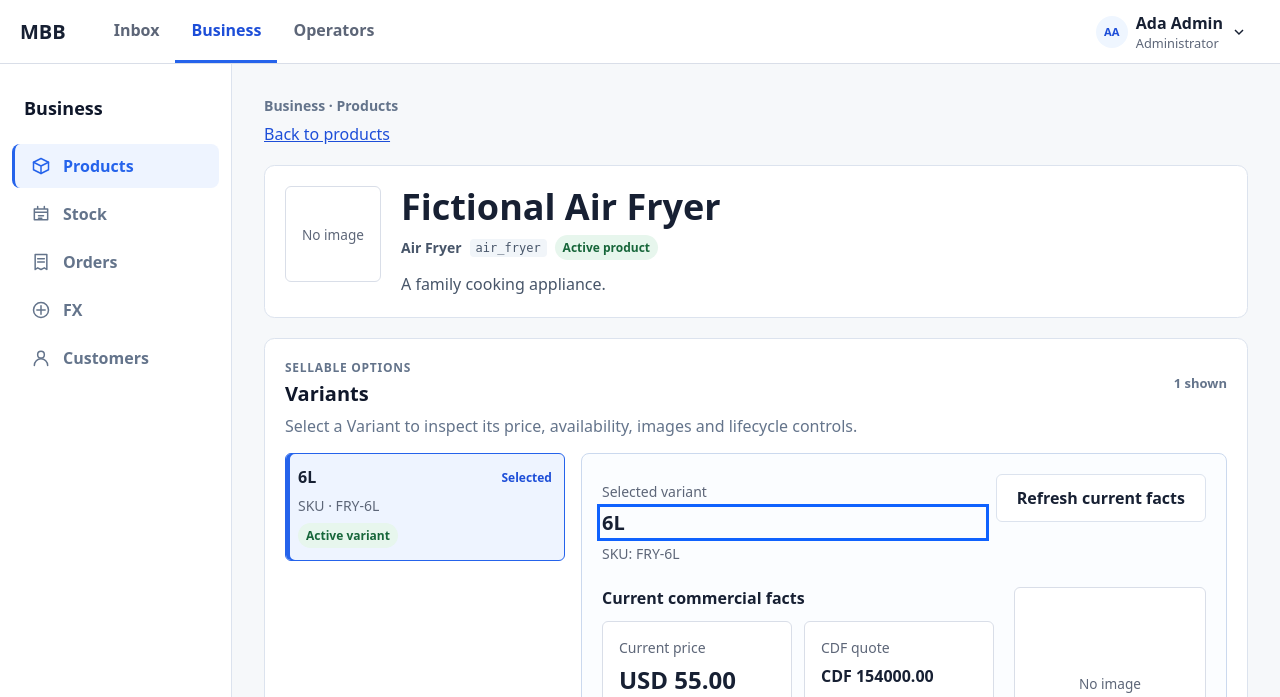
Scenario: shared Business Products › keeps a saved change separate from a failed authoritative reread
Click the button with aria-label "6L · FRY-6L" at (527, 477), box [285, 453, 565, 561]
(page scrolled)
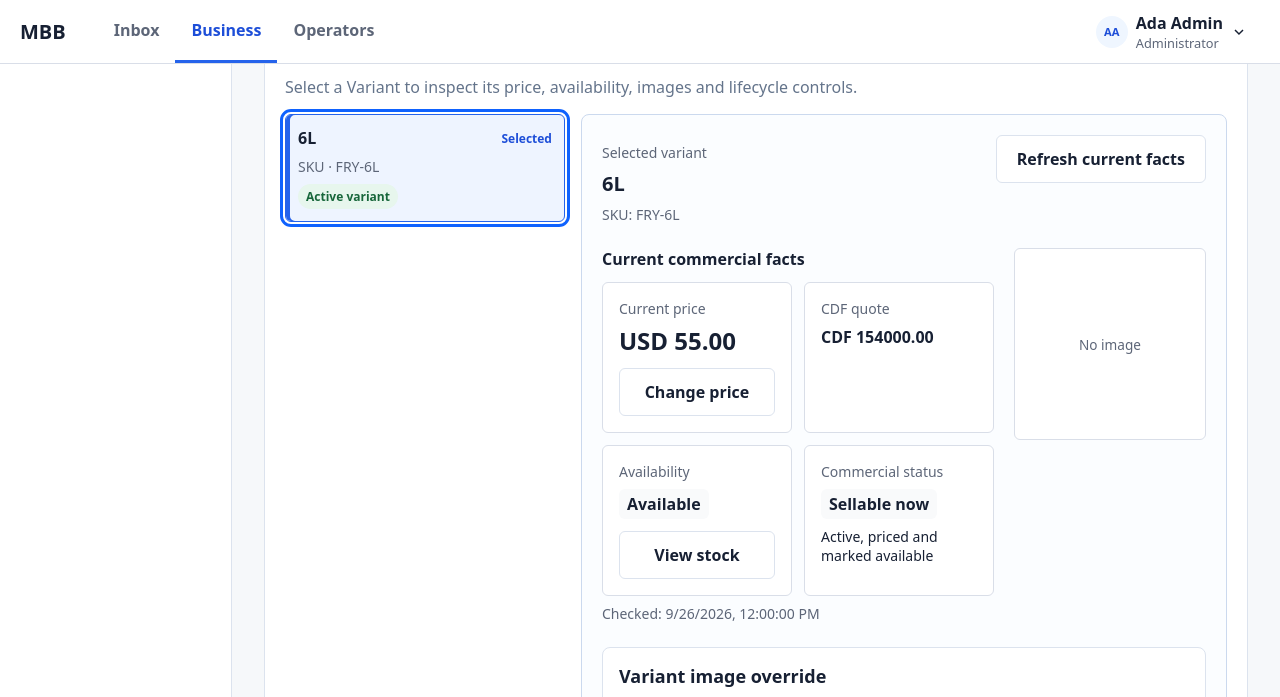
Check: the heading "6L" is shown, box [602, 170, 625, 197]
Click the button "Change price" at (697, 392), box [619, 368, 775, 416]
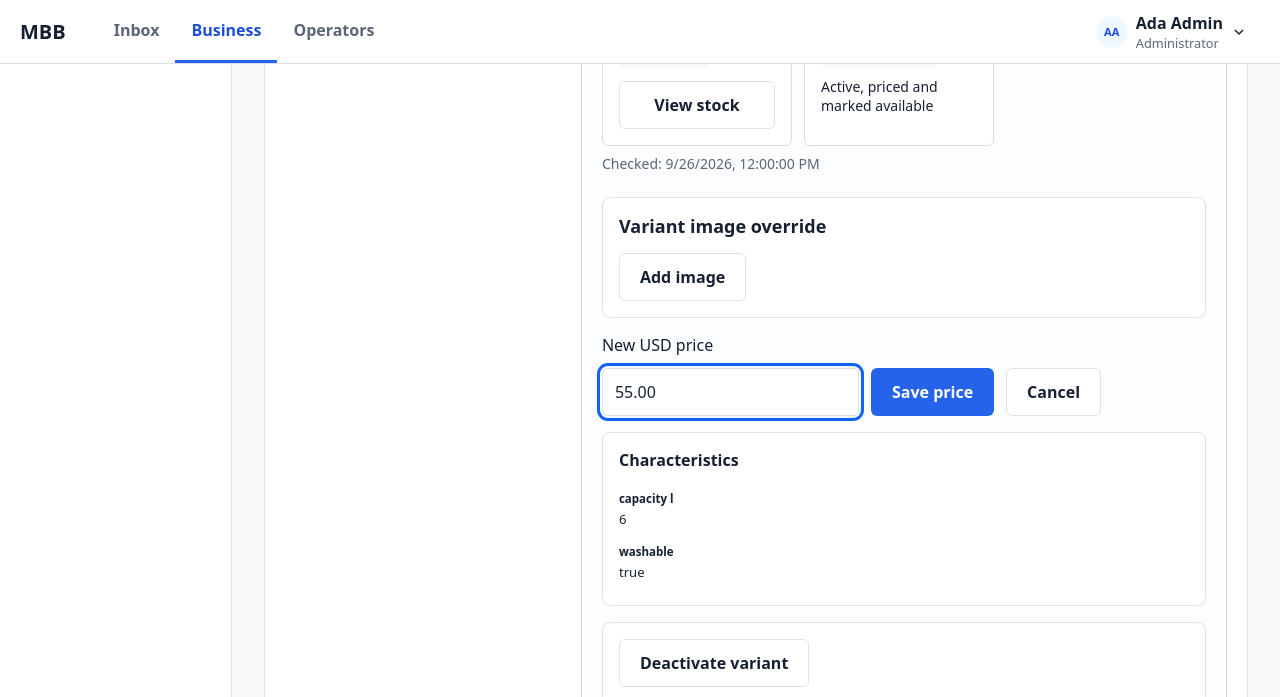
Replace the text in the field labelled "New USD price" with "60.25" at (730, 392), box [602, 368, 859, 416]
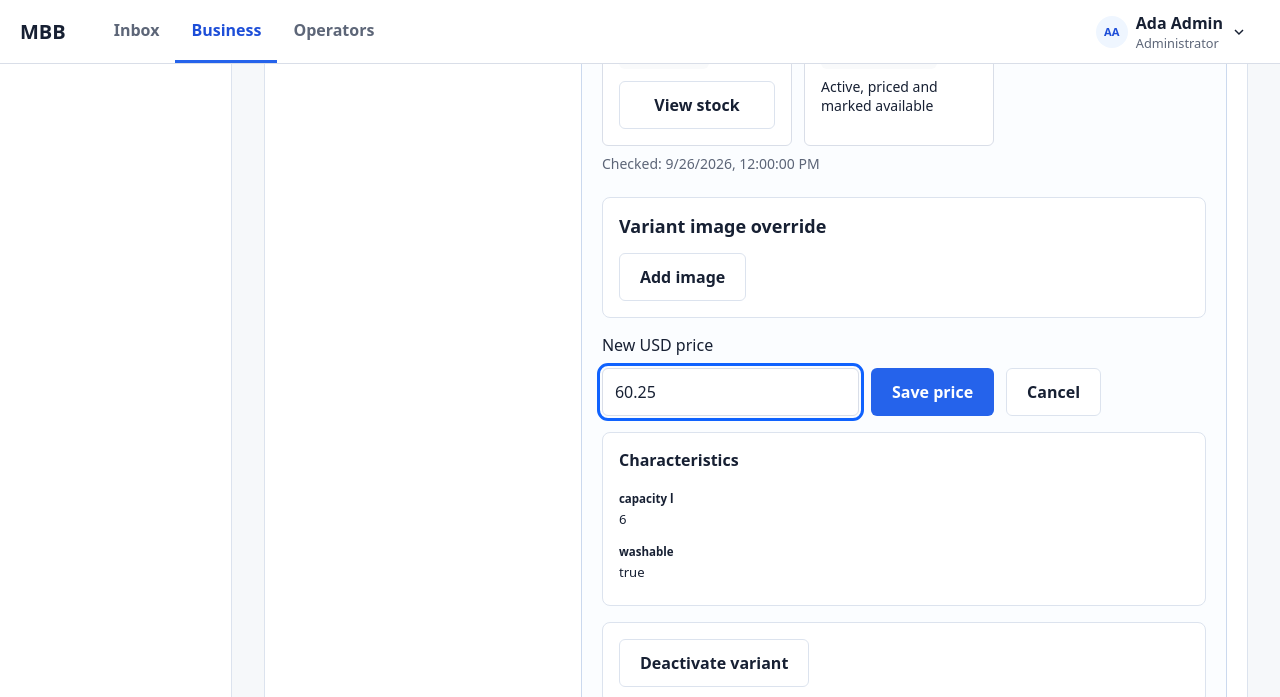
Click the button "Save price" at (933, 392), box [871, 368, 994, 416]
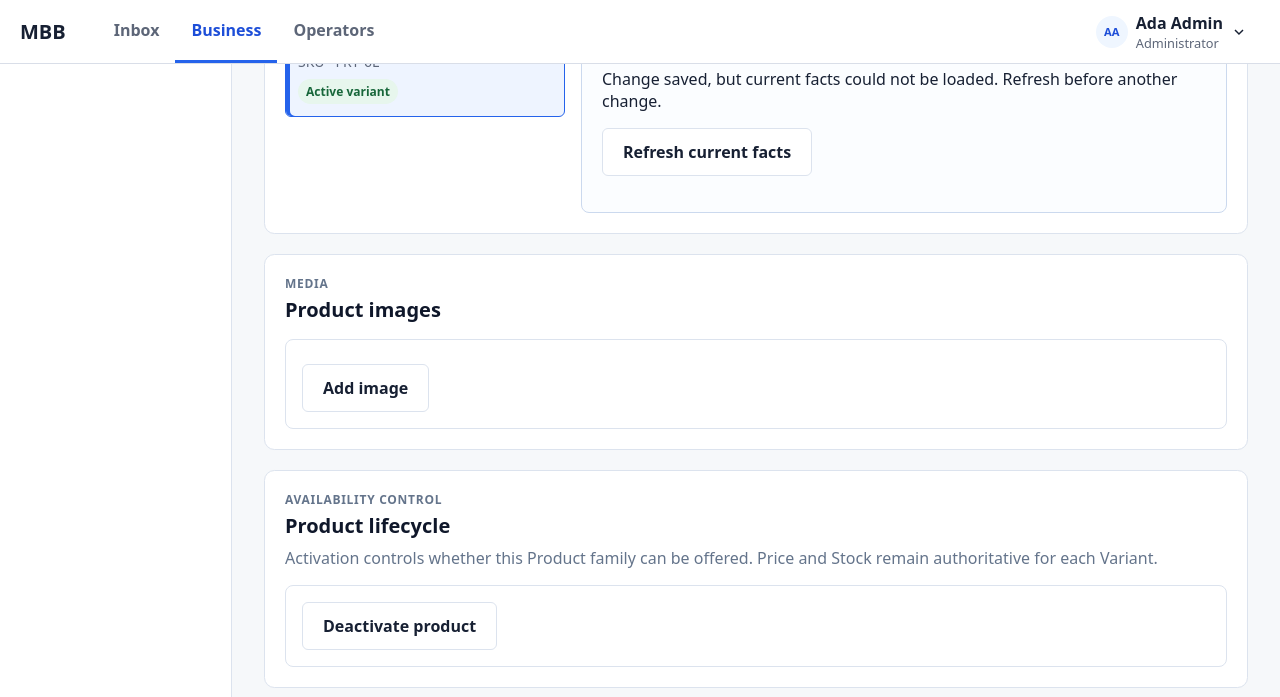
Check: the text "USD 55.00" is not shown
Check: the text "Change saved, but current facts could not be loaded. Refresh before another change." is shown, box [602, 68, 1177, 112]
Click the button "Refresh current facts" at (707, 152), box [602, 128, 812, 176]
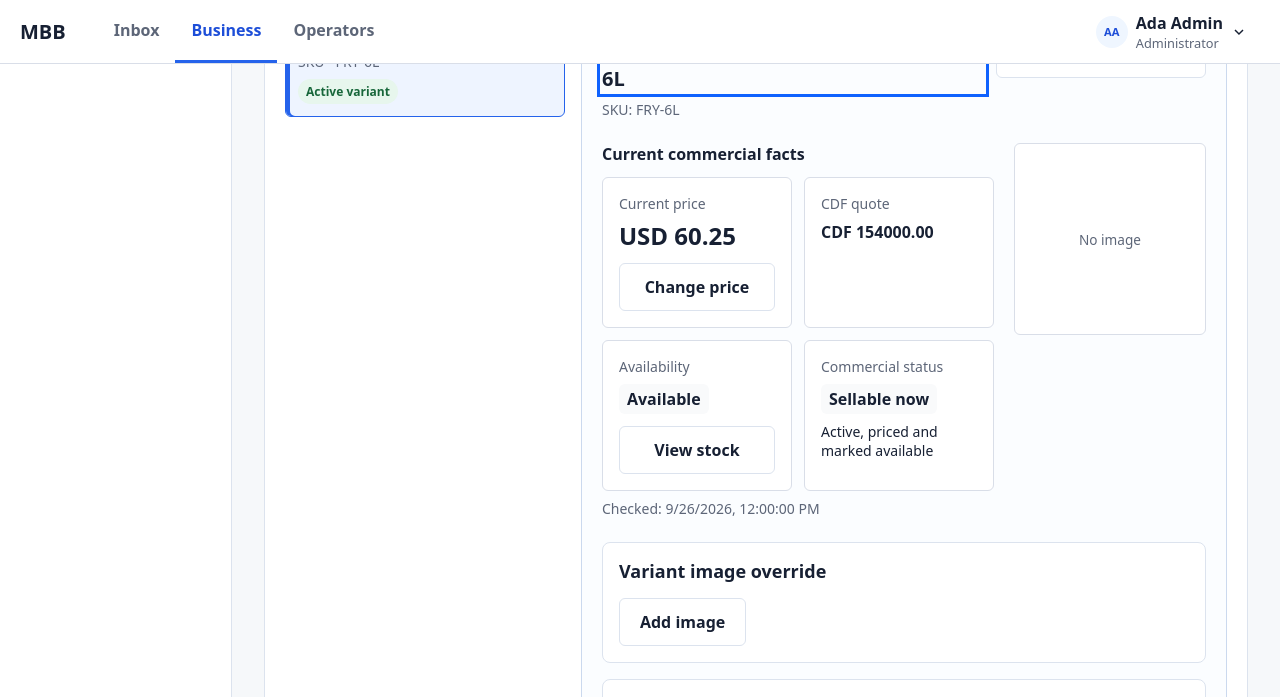
Check: the text "USD 60.25" is shown, box [619, 219, 736, 252]
